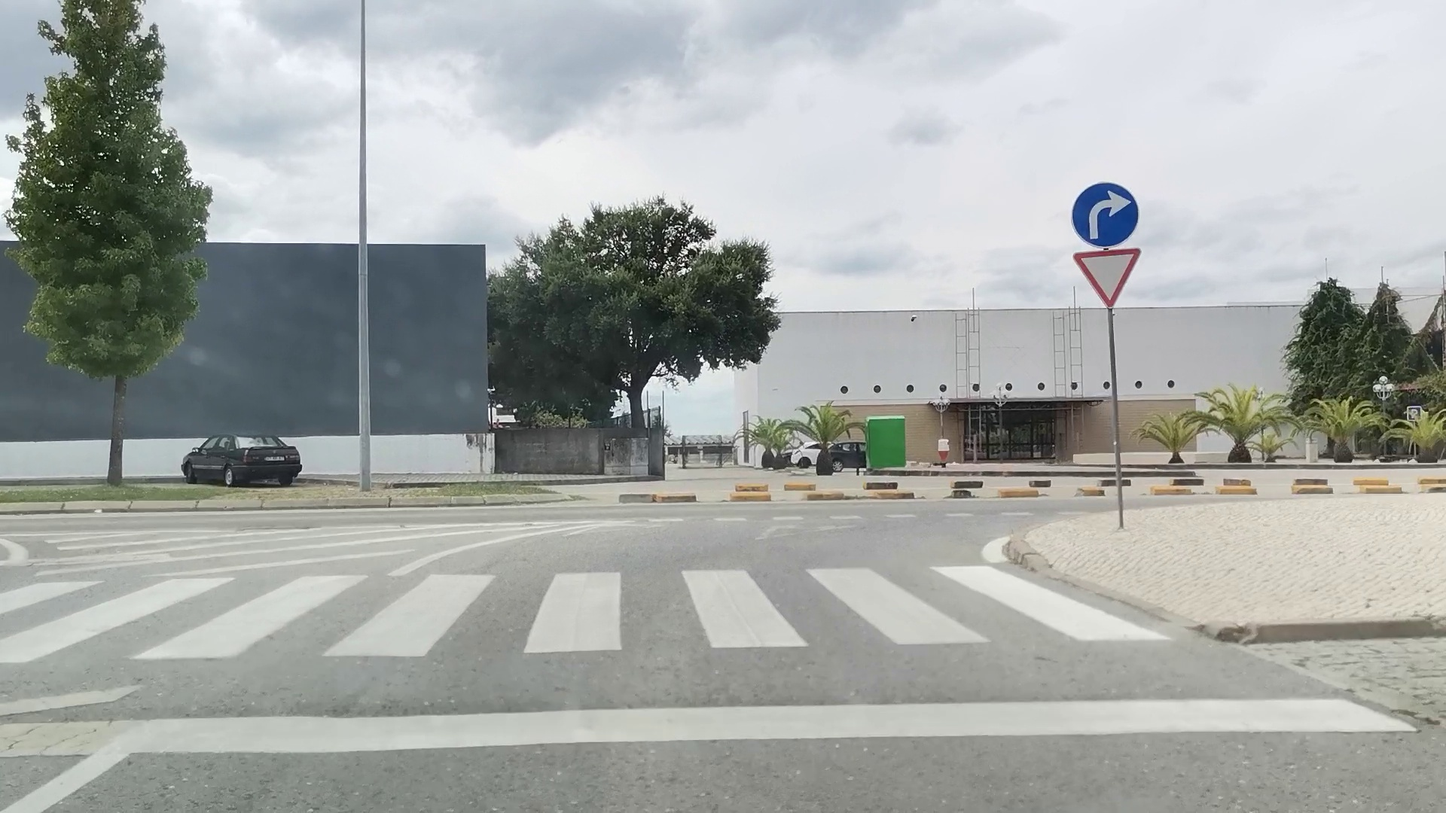Stairs: (0, 562, 1169, 664)
